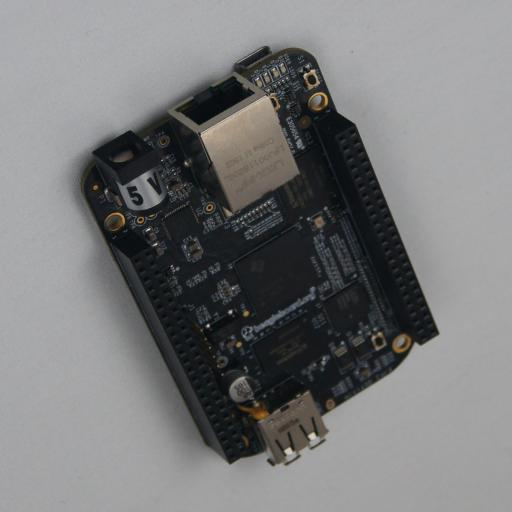Beaglebone Black: (76, 46, 438, 466)
